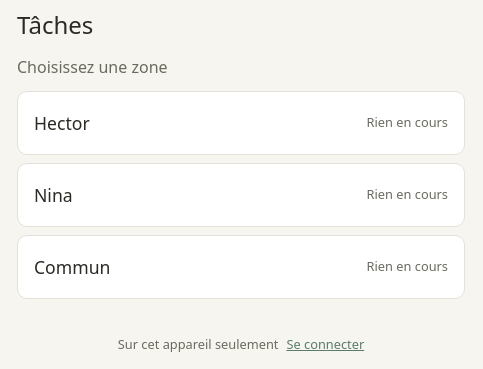
Test: App › completing a task grants XP and starts a streak; uncompleting reverts them
This screenshot has width=483, height=369.
Click the button "Hector Rien en cours" at x=62, y=123, box [17,91,465,155]
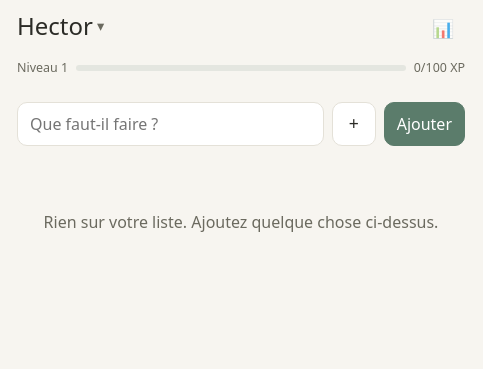
Type "Acheter du lait" into the field named "Nouvelle tâche" at x=170, y=124, box [17,102,324,146]
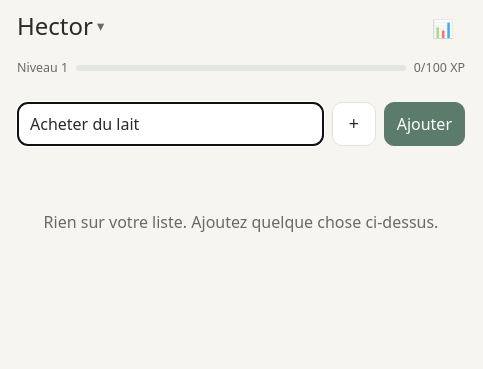
Click the button "Ajouter" at x=424, y=124, box [384,102,465,146]
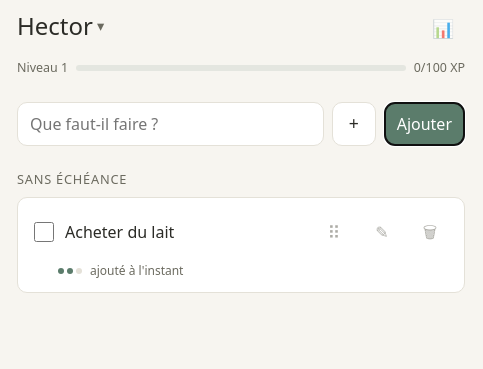
Check: the text "0/100 XP" is shown, box [414,59,465,78]
Click the checkbox at x=44, y=232, box [34,222,54,242]
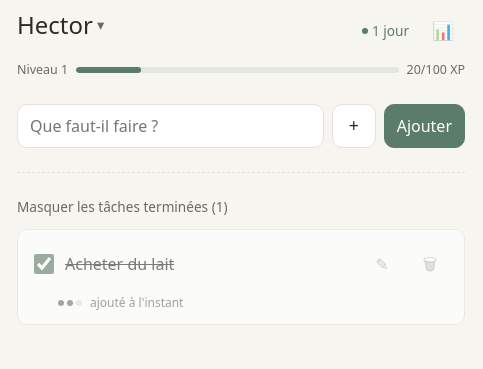
Check: the text "20/100 XP" is shown, box [407,61,465,80]
Check: the text "1 jour" is shown, box [362,21,409,41]
Click the checkbox at x=44, y=264, box [34,254,54,274]
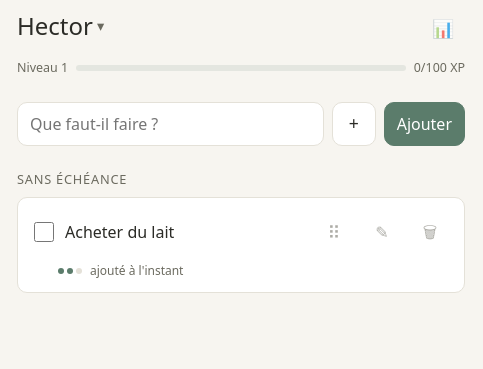
Check: the text "0/100 XP" is shown, box [414,59,465,78]
Check: the text "1 jour" is gone
